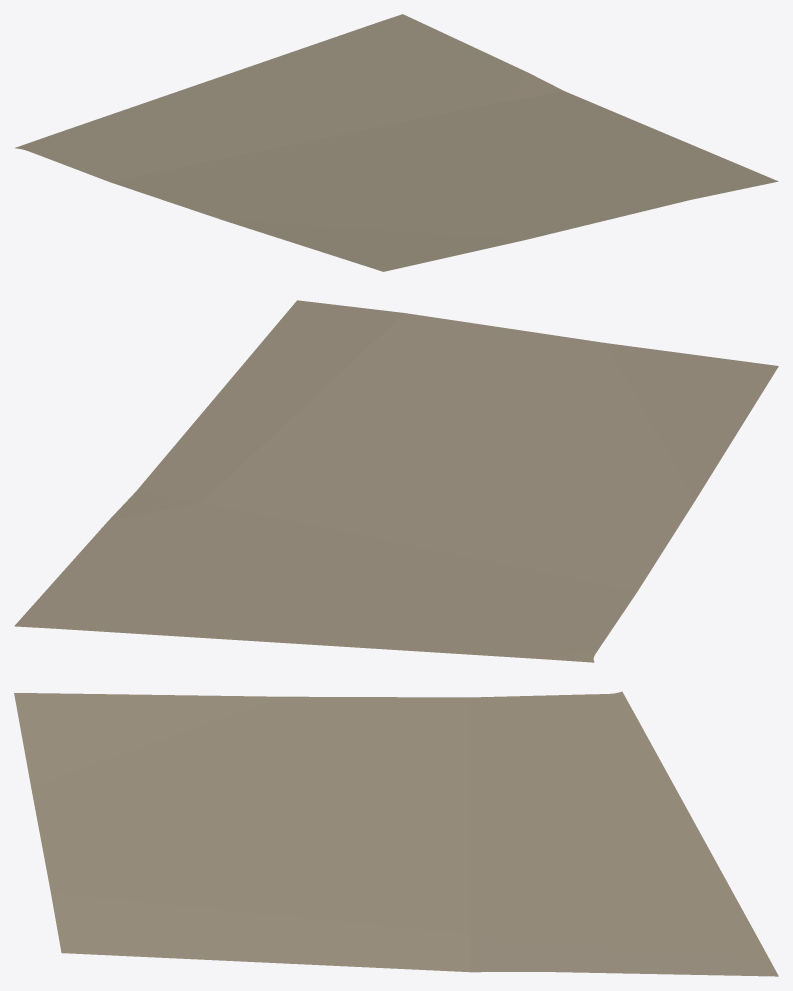
The model's file is farm_0_-4_soil.glb.
The picture shows the model from 3 angles, top to bottom: view 1: azimuth 30°, elevation 25°; view 2: azimuth 150°, elevation 25°; view 3: azimuth 270°, elevation 25°; orthographic projection. The views are drawn at different scales.
Visible parts, largest first — view 1: geometry_0; view 2: geometry_0; view 3: geometry_0.
Boxes of the visible parts, x1,y1,x2,y2 form: geometry_0: [14, 14, 778, 271]; geometry_0: [14, 300, 778, 662]; geometry_0: [14, 691, 778, 976].
Size of the model in its own units: 81.24 by 11.44 by 91.79.
